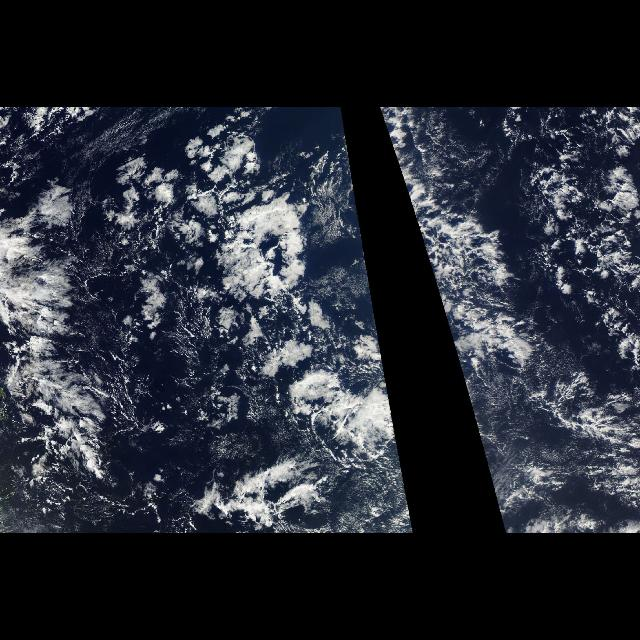Fish: (127, 124, 406, 498), (384, 123, 406, 187)
Flower: (121, 126, 315, 318)
Sugar: (462, 372, 554, 462), (336, 473, 414, 532)
